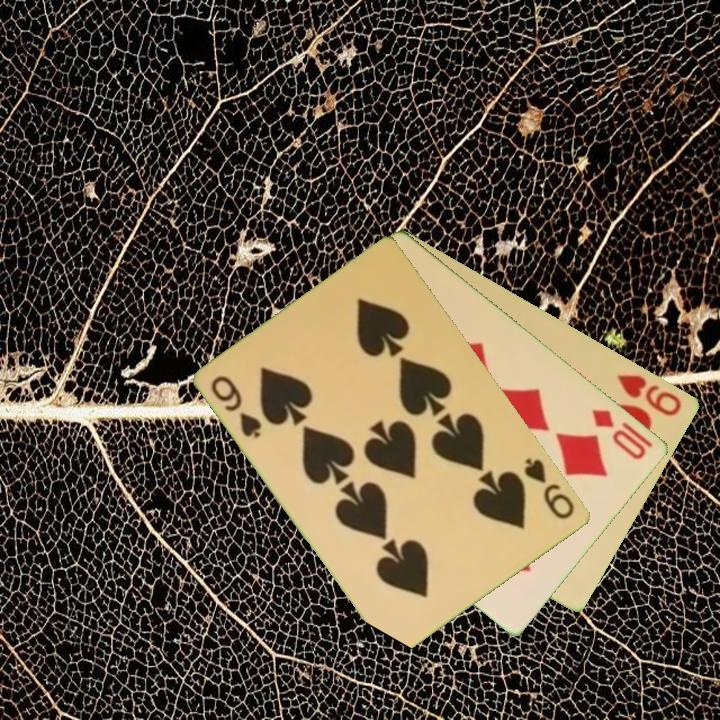10d: (589, 405, 650, 463)
9h: (614, 370, 685, 419)
9s: (207, 372, 266, 442), (521, 454, 578, 523)
